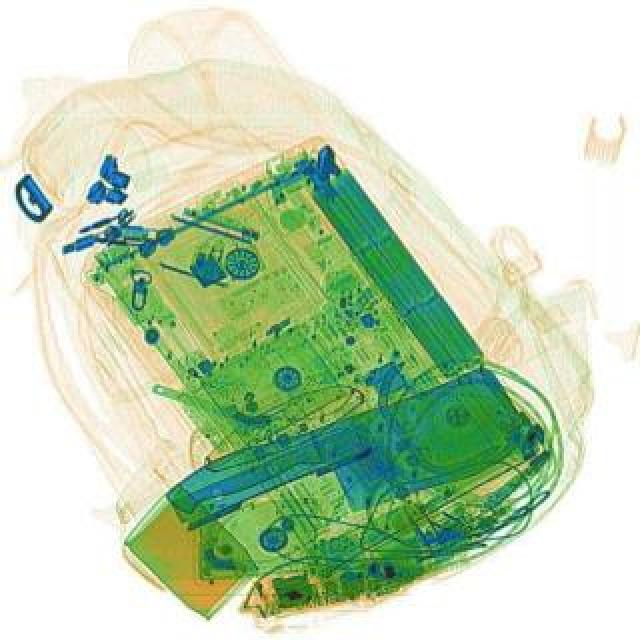knife: (162, 358, 534, 572)
